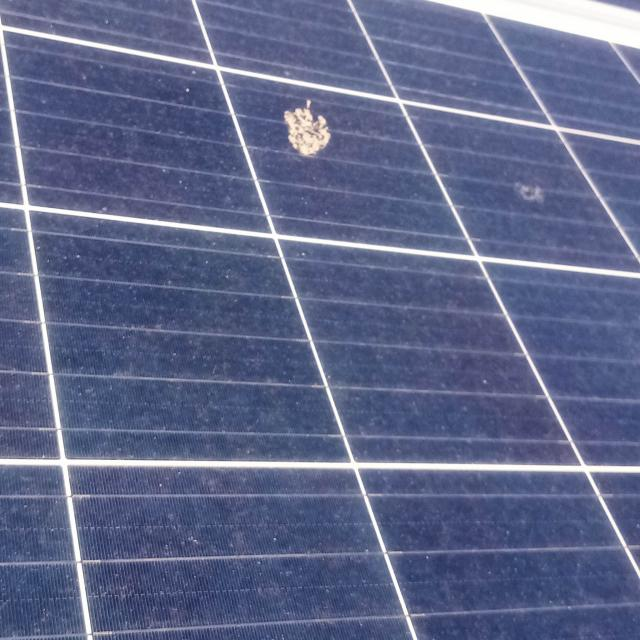faulty: (0, 0, 628, 629)
